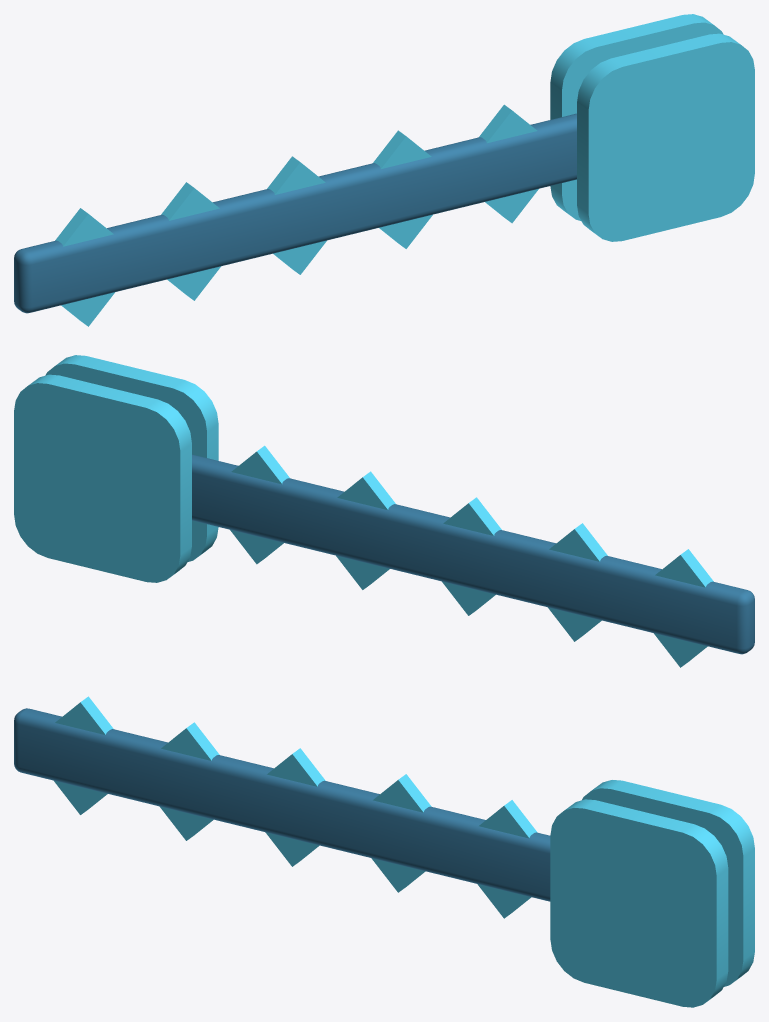
Rendered from Toll.fbx.
The picture shows the model from 3 angles, top to bottom: view 1: azimuth 30°, elevation 25°; view 2: azimuth 150°, elevation 25°; view 3: azimuth 330°, elevation 25°; orthographic projection.
Visible parts, largest first — view 1: Cube.012, Cube.010, Cube.011, Cube.013, Cube.014; view 2: Cube.012, Cube.011, Cube.010, Cube.013, Cube.014; view 3: Cube.012, Cube.010, Cube.011, Cube.013, Cube.014.
Boxes of the visible parts, x1,y1,x2,y2 form: Cube.012: [14, 113, 576, 313]; Cube.010: [577, 33, 754, 241]; Cube.011: [550, 14, 723, 221]; Cube.013: [55, 104, 537, 246]; Cube.014: [61, 189, 538, 326]; Cube.012: [192, 454, 754, 654]; Cube.011: [14, 374, 191, 582]; Cube.010: [45, 355, 218, 562]; Cube.013: [231, 445, 713, 587]; Cube.014: [230, 530, 707, 667]; Cube.012: [14, 708, 550, 901]; Cube.010: [550, 799, 728, 1007]; Cube.011: [582, 780, 754, 986]; Cube.013: [55, 696, 537, 838]; Cube.014: [54, 780, 531, 918].
Bounding box in the file's own units: 498 × 115 × 45.82.
